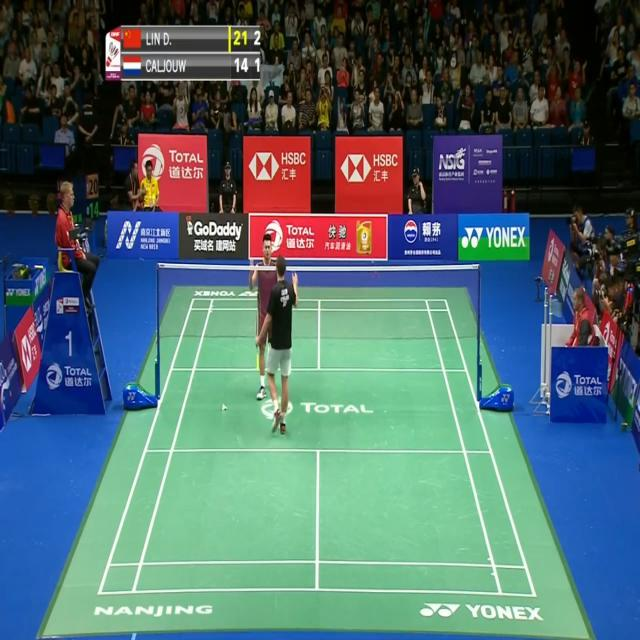Player1: (265, 252, 299, 438)
Player2: (246, 228, 278, 402)
